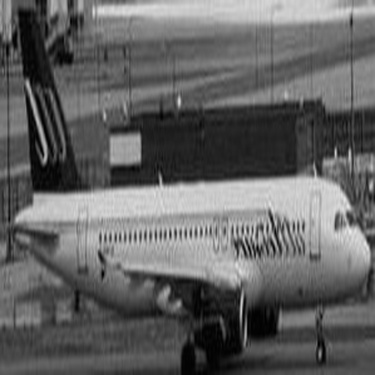airplane: (1, 1, 371, 371)
